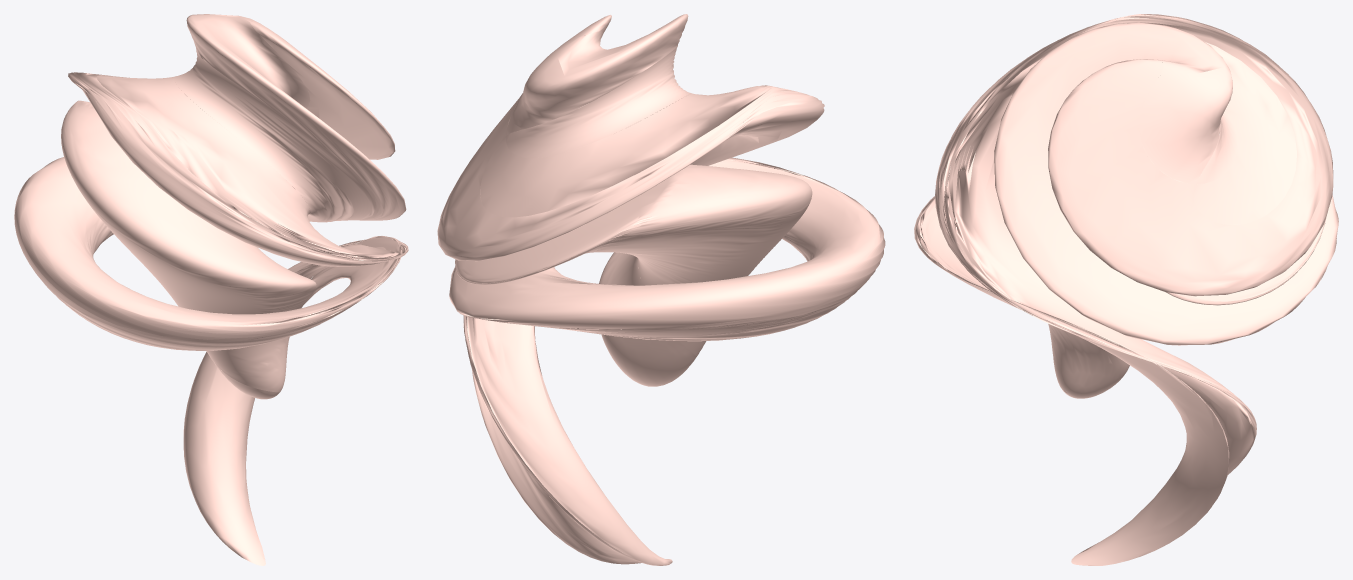
File: Organic4.glb
3 renders of one model, left to right at view 1: azimuth 30°, elevation 25°; view 2: azimuth 150°, elevation 25°; view 3: azimuth 270°, elevation 25°, orthographic. The views are drawn at different scales.
Parts seen in each view (by area): view 1: Object_3; view 2: Object_3; view 3: Object_3.
Part boxes in pixels (x1,y1,x2,y2): Object_3: (14,14,408,565); Object_3: (437,14,885,565); Object_3: (914,14,1338,565).
Bounding box in the file's own units: 3.77 × 5.33 × 3.9.
